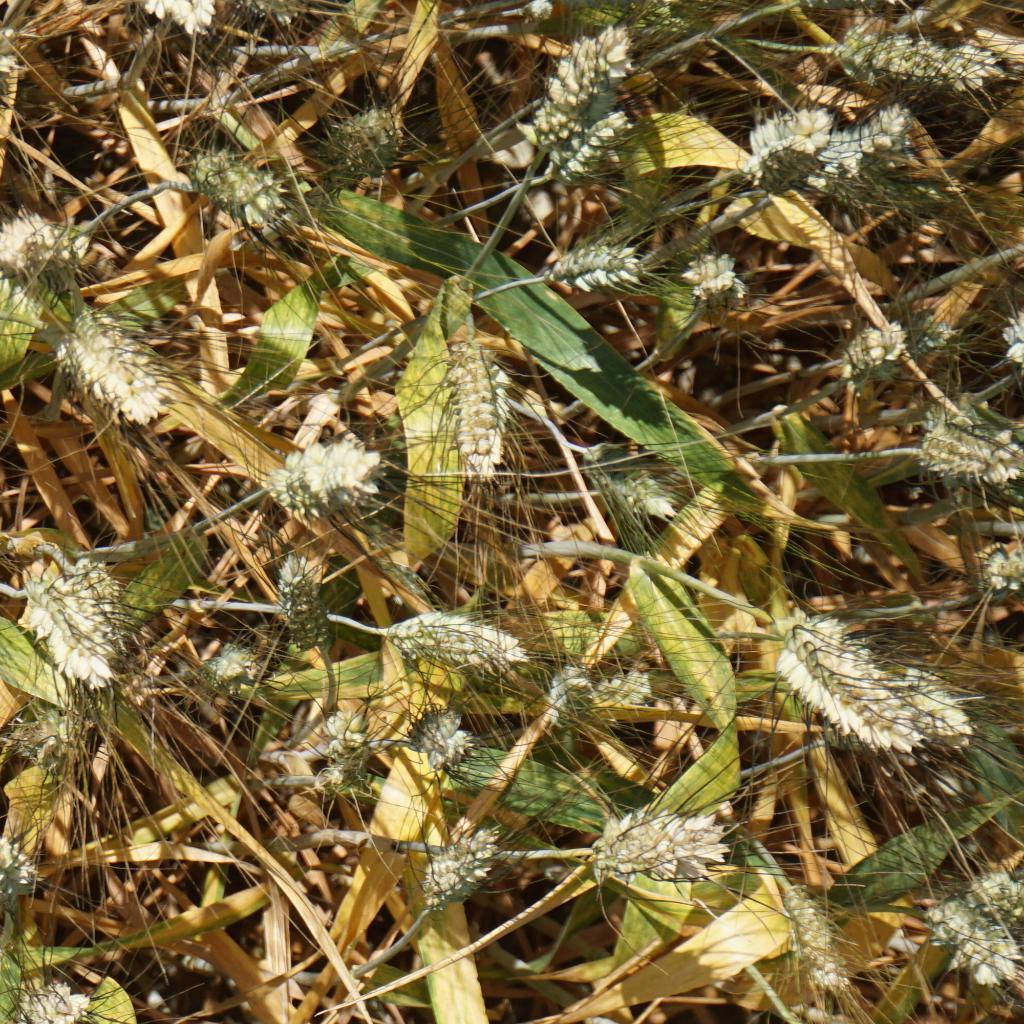0-0: (762, 608, 914, 743), (59, 310, 178, 435), (827, 28, 1003, 105), (0, 567, 110, 683), (593, 800, 726, 894), (438, 335, 514, 487), (807, 89, 918, 193), (384, 599, 523, 681), (180, 143, 301, 232), (772, 872, 856, 997), (257, 441, 388, 519), (737, 101, 834, 204), (513, 32, 609, 136), (574, 435, 679, 522), (415, 820, 509, 913), (318, 94, 402, 197), (908, 414, 1020, 491), (0, 206, 90, 290), (926, 901, 1022, 978), (888, 658, 975, 742), (271, 544, 338, 652), (67, 558, 143, 649), (309, 707, 379, 804), (576, 663, 686, 724), (537, 236, 647, 294), (404, 706, 481, 777), (680, 243, 754, 309), (25, 705, 90, 777), (839, 315, 913, 376), (549, 110, 617, 176), (10, 975, 94, 1024), (203, 632, 257, 694), (967, 870, 1024, 923), (552, 657, 599, 720), (977, 530, 1024, 593), (0, 830, 38, 905), (0, 26, 27, 120), (231, 0, 323, 27)
